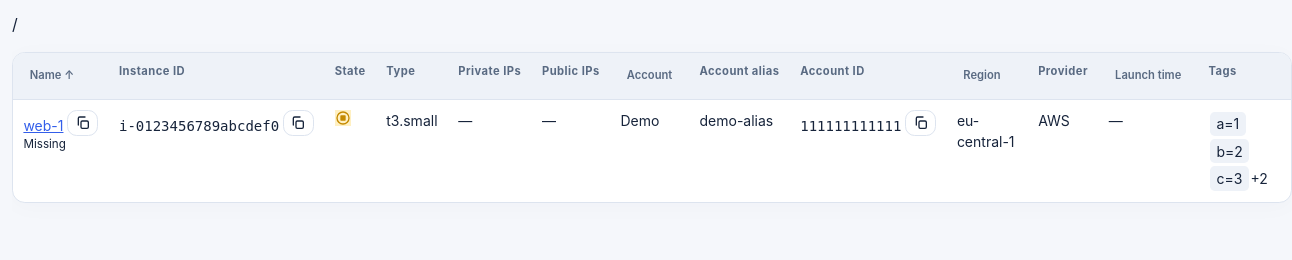
Test case: copy success=true keeps row navigation untouched
The width and height of the screenshot is (1292, 260).
Click the button named "Copy i-0123456789abcdef0": (298,123) top-left (283, 110), bottom-right (314, 136)
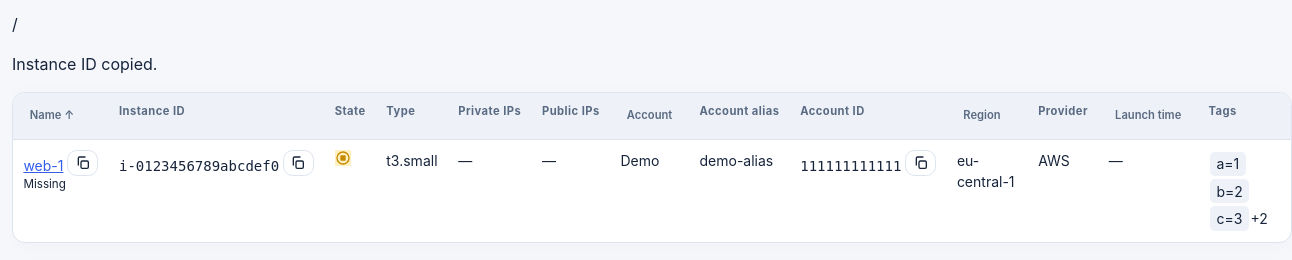
Check: the text named "Location" reads "/", box top-left (12, 14), bottom-right (18, 34)
Check: the text "Instance ID copied." is shown, box top-left (12, 54), bottom-right (157, 74)
